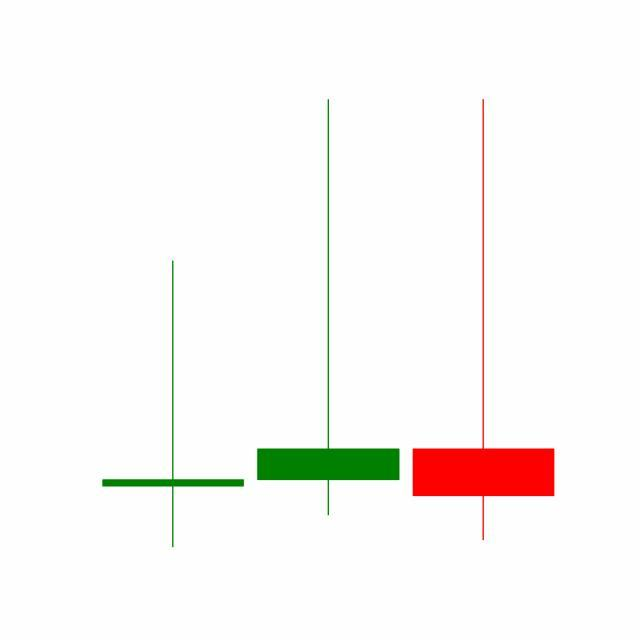Gravestone Doji: (406, 95, 562, 546)
